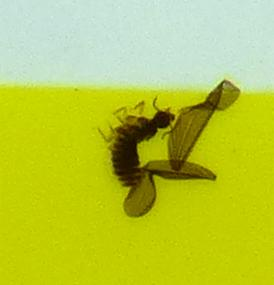Isoptera: (100, 100, 174, 185)
